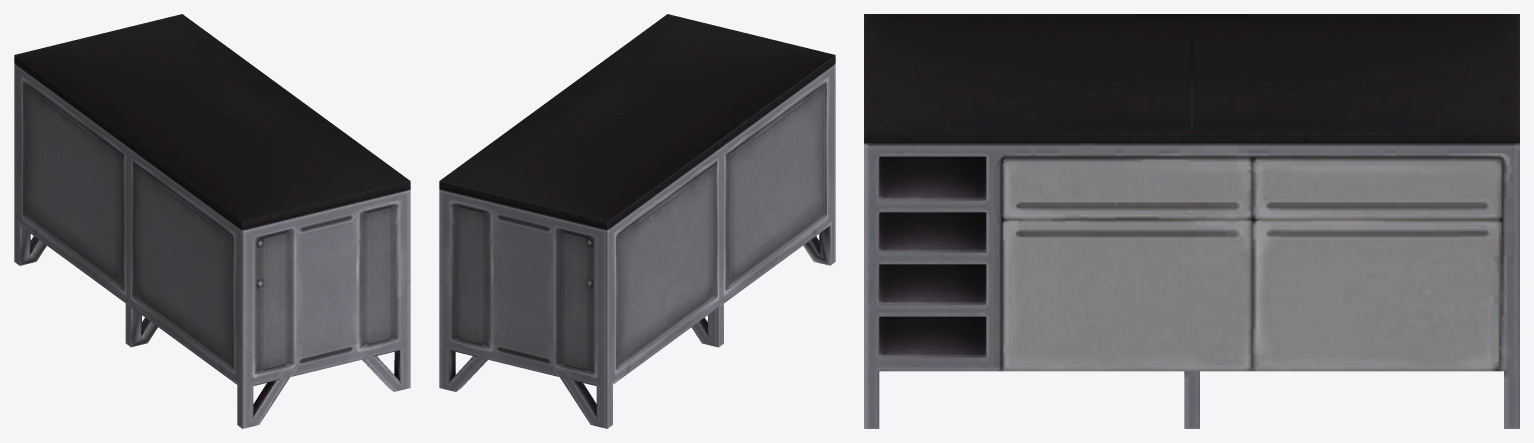
Rendered from TableLab05.FBX.
The picture shows the model from 3 angles, left to right: view 1: azimuth 30°, elevation 25°; view 2: azimuth 150°, elevation 25°; view 3: azimuth 270°, elevation 25°; orthographic projection. The views are drawn at different scales.
Visible parts, largest first — view 1: TableLab05; view 2: TableLab05; view 3: TableLab05.
Part boxes in pixels (box(x1,y1,x2,y2)): TableLab05: box(14, 14, 410, 428); TableLab05: box(439, 14, 835, 428); TableLab05: box(864, 14, 1519, 428).
Size of the model in its own units: 0.85 by 1 by 2.
